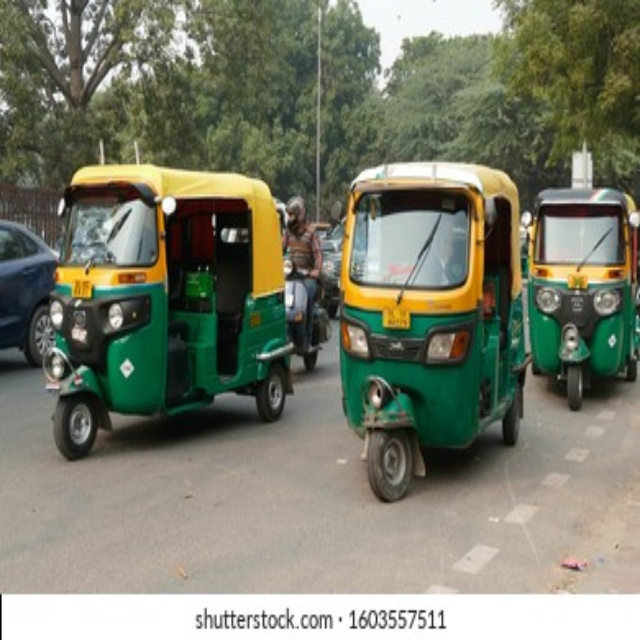Motorcycle: (44, 162, 292, 462), (340, 158, 525, 503), (520, 187, 640, 411), (282, 258, 330, 373)
